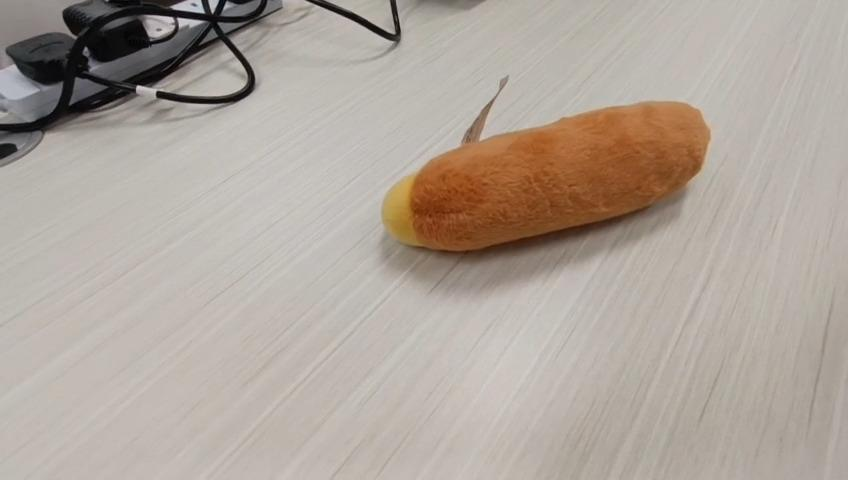hotdog: (380, 74, 711, 252)
